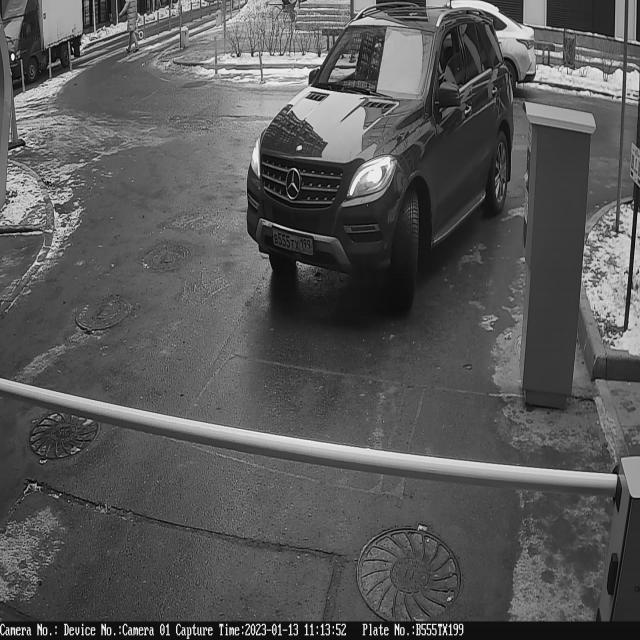car-plate-numbers: (271, 225, 316, 261)
